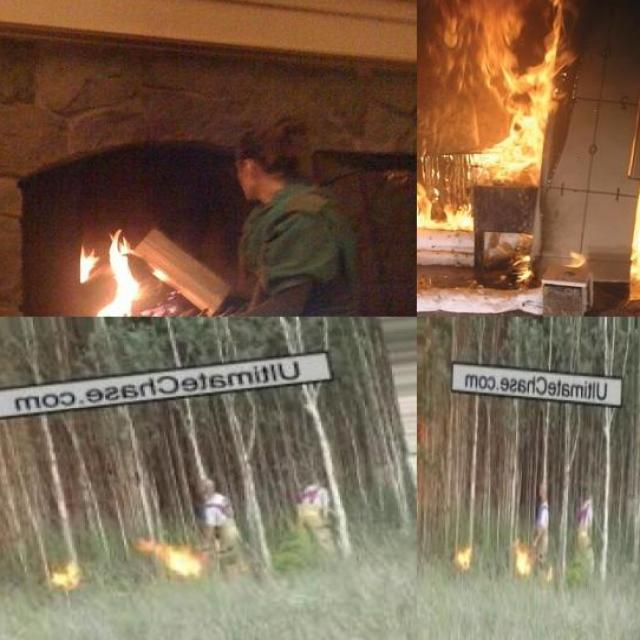fire: (416, 0, 584, 230), (72, 220, 160, 317), (136, 531, 198, 577), (43, 554, 88, 594), (628, 158, 640, 302), (516, 540, 536, 575), (457, 543, 477, 574)
